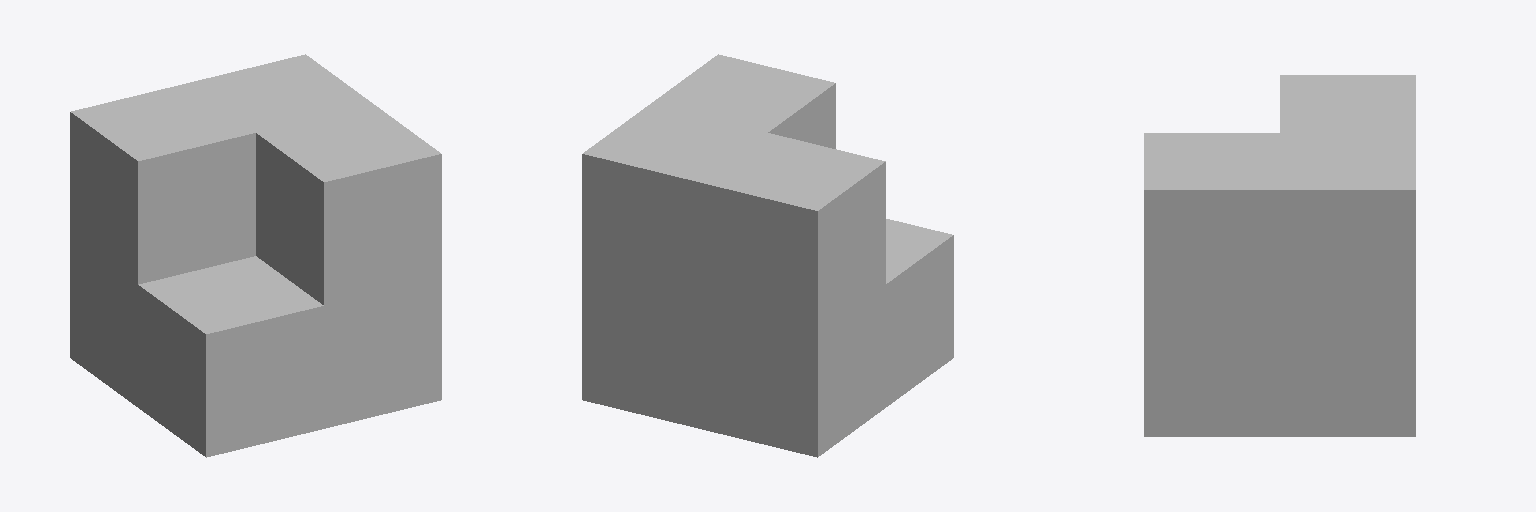
Rendered from Pedra 3.obj.
3 renders of one model, left to right at view 1: azimuth 30°, elevation 25°; view 2: azimuth 150°, elevation 25°; view 3: azimuth 270°, elevation 25°, orthographic.
Visible parts, largest first — view 1: object 1; view 2: object 1; view 3: object 1.
Part boxes in pixels (x1,y1,x2,y2): object 1: (70, 54, 441, 457); object 1: (582, 54, 953, 457); object 1: (1144, 75, 1415, 436).
Size of the model in its own units: 0.2 by 0.2 by 0.2.